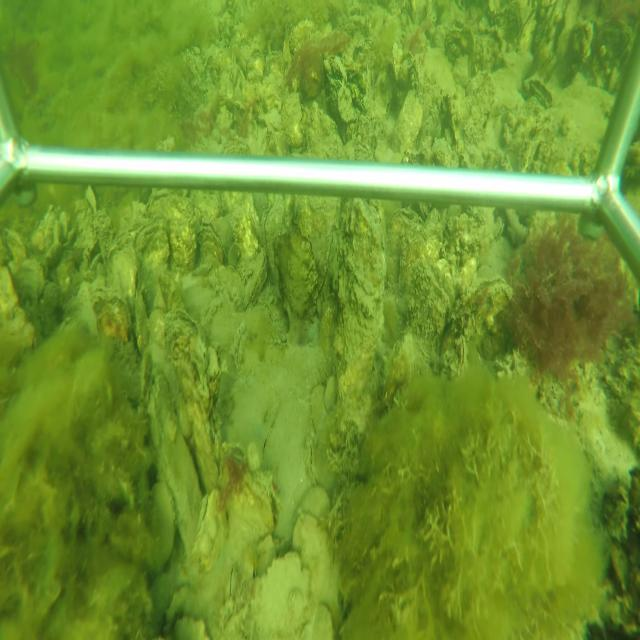Oyster-Closed: (330, 200, 387, 454), (164, 307, 221, 488), (313, 226, 337, 308), (240, 247, 268, 309), (259, 195, 288, 251), (281, 87, 307, 148), (199, 219, 225, 262), (518, 6, 536, 47), (456, 334, 468, 375)
Oyster-Indeterminate: (153, 192, 197, 269), (281, 231, 318, 316), (390, 88, 423, 152)
Oyster-Open: (522, 76, 555, 106)
